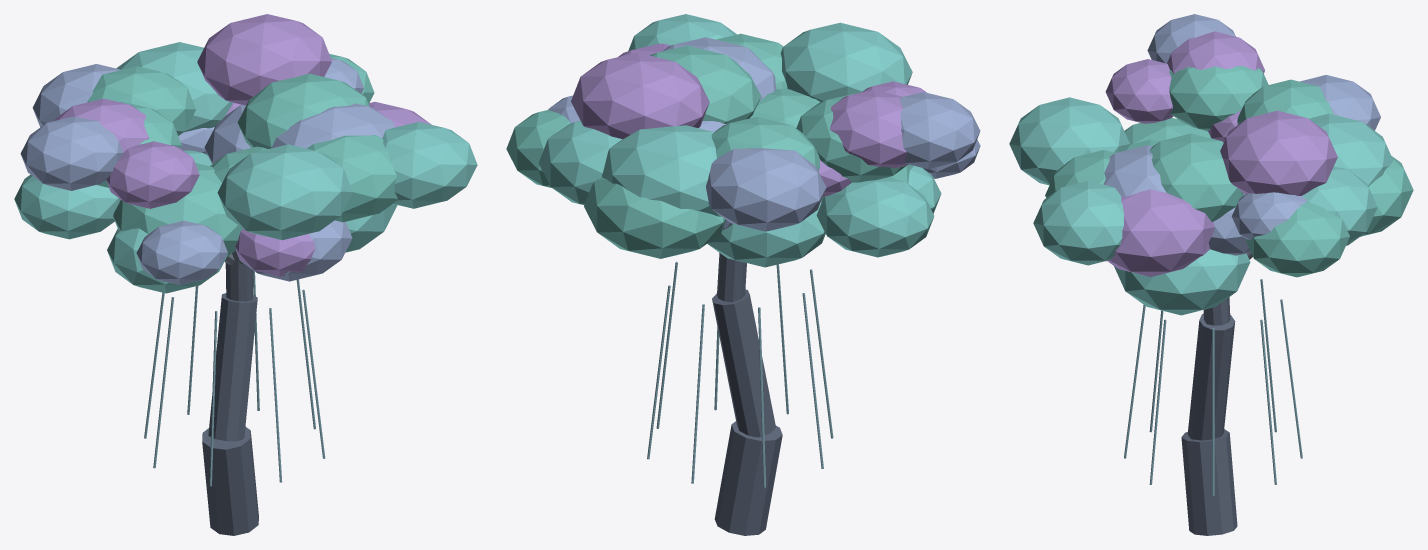
The model's file is hexcore_living_tree_09.glb.
The picture shows the model from 3 angles, left to right: view 1: azimuth 30°, elevation 25°; view 2: azimuth 150°, elevation 25°; view 3: azimuth 270°, elevation 25°; orthographic projection. The views are drawn at different scales.
Visible parts, largest first — view 1: world; view 2: world; view 3: world.
Part boxes in pixels (box(x1,y1,x2,y2)): world: box(14, 14, 477, 535); world: box(506, 14, 980, 535); world: box(1009, 14, 1413, 535).
Bounding box in the file's own units: 22.4 × 25.1 × 20.81.
